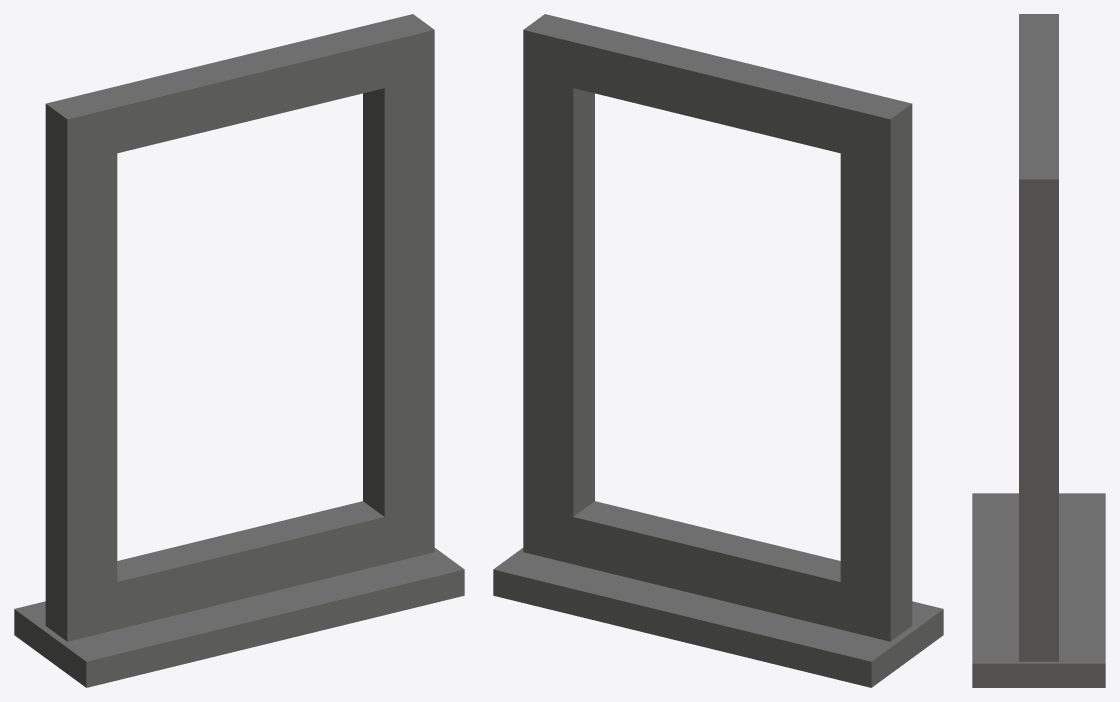
File: Window_3B.fbx
The picture shows the model from 3 angles, left to right: view 1: azimuth 30°, elevation 25°; view 2: azimuth 150°, elevation 25°; view 3: azimuth 270°, elevation 25°; orthographic projection. The views are drawn at different scales.
Visible parts, largest first — view 1: polySurface1615; view 2: polySurface1615; view 3: polySurface1615.
Part boxes in pixels (left/top/right/bottom): polySurface1615: left=14, top=14, right=464, bottom=687; polySurface1615: left=493, top=14, right=943, bottom=687; polySurface1615: left=972, top=14, right=1105, bottom=687.
Size of the model in its own units: 1.51 by 2.09 by 0.5.
Materials: 1 (1 with a texture image).
